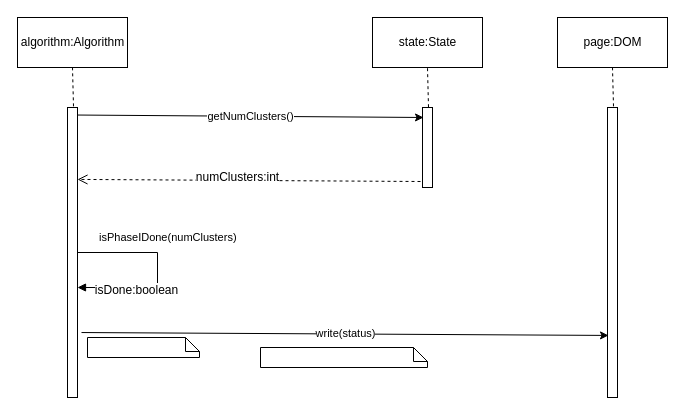
Some shapes in this 685 by 415 pixel diagram are drawn without their labels. Here are the shapes that lost their labels. From the top down, the centre of each, then its label:
[143,347]: if isDone == true
[344,357]: *Client-Server Connection*
